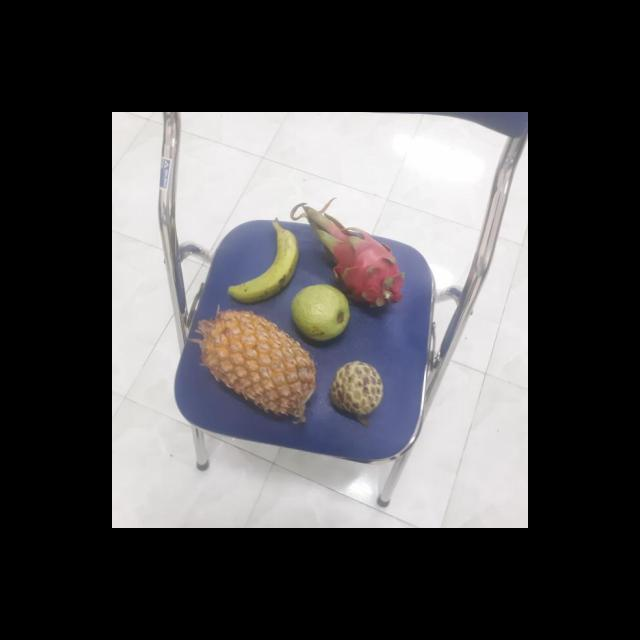Sakya fruit: (325, 361, 382, 418)
banana: (224, 222, 298, 304)
guava: (288, 285, 351, 344)
pineapple: (197, 312, 316, 424)
pitaya: (312, 220, 402, 308)
